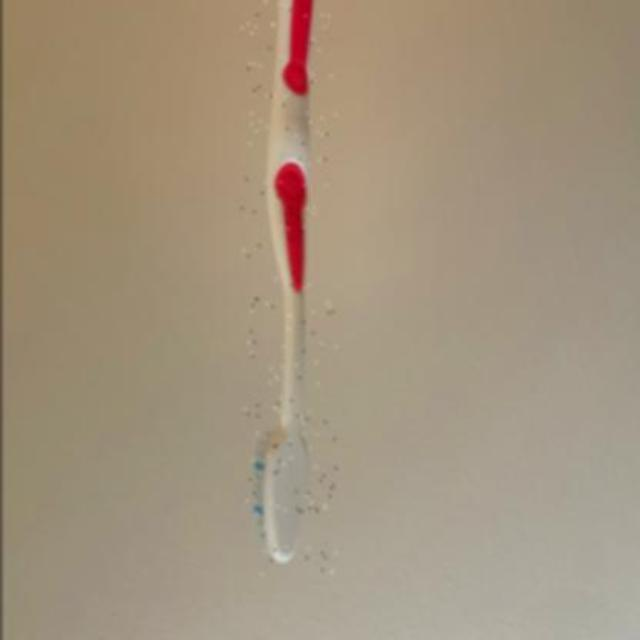toothbrush: (240, 1, 336, 576)
